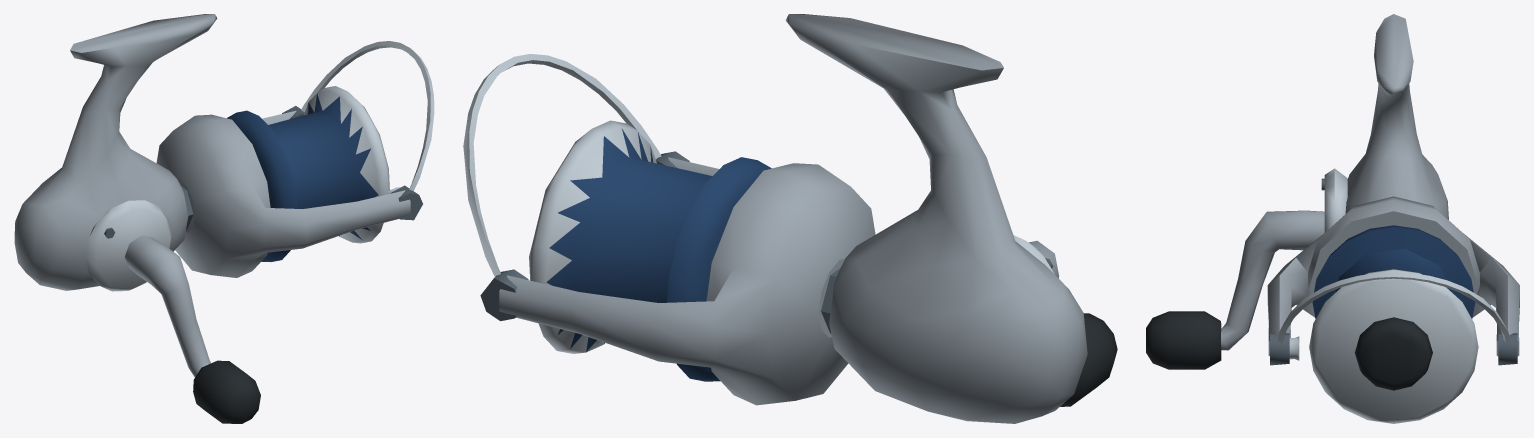
The model's file is reel_01_spinning.glb.
3 renders of one model, left to right at view 1: azimuth 30°, elevation 25°; view 2: azimuth 150°, elevation 25°; view 3: azimuth 270°, elevation 25°, orthographic. The views are drawn at different scales.
Parts seen in each view (by area): view 1: Hero_01_Continuous_body_stem_foot.001, Hero_04_Continuous_rotor_arms.001, Hero_06_Spool_shell.001, Hero_02_Side_cover.001, Hero_09_Continuous_crank_casting.001, Hero_10_Free_grip_knob.001, Hero_11_Bail_wire.001, Hero_05_Bail_hinge_caps.001; view 2: Hero_01_Continuous_body_stem_foot.001, Hero_04_Continuous_rotor_arms.001, Hero_06_Spool_shell.001, Hero_11_Bail_wire.001, Hero_10_Free_grip_knob.001, Hero_05_Bail_hinge_caps.001; view 3: Hero_06_Spool_shell.001, Hero_04_Continuous_rotor_arms.001, Hero_01_Continuous_body_stem_foot.001, Hero_09_Continuous_crank_casting.001, Hero_07_Drag_adjuster.001, Hero_10_Free_grip_knob.001, Hero_11_Bail_wire.001, Hero_02_Side_cover.001, Hero_05_Bail_hinge_caps.001.
Boxes of the visible parts, x1,y1,x2,y2 form: Hero_01_Continuous_body_stem_foot.001: [14, 14, 217, 290]; Hero_04_Continuous_rotor_arms.001: [156, 111, 410, 277]; Hero_06_Spool_shell.001: [227, 86, 389, 261]; Hero_02_Side_cover.001: [85, 200, 171, 291]; Hero_09_Continuous_crank_casting.001: [125, 235, 210, 377]; Hero_10_Free_grip_knob.001: [193, 360, 260, 423]; Hero_11_Bail_wire.001: [301, 41, 434, 190]; Hero_05_Bail_hinge_caps.001: [282, 106, 422, 220]; Hero_01_Continuous_body_stem_foot.001: [785, 14, 1087, 423]; Hero_04_Continuous_rotor_arms.001: [499, 157, 875, 405]; Hero_06_Spool_shell.001: [529, 120, 771, 381]; Hero_11_Bail_wire.001: [463, 54, 661, 276]; Hero_10_Free_grip_knob.001: [1060, 313, 1117, 406]; Hero_05_Bail_hinge_caps.001: [480, 151, 689, 321]; Hero_06_Spool_shell.001: [1309, 225, 1478, 423]; Hero_04_Continuous_rotor_arms.001: [1267, 196, 1519, 356]; Hero_01_Continuous_body_stem_foot.001: [1345, 14, 1448, 219]; Hero_09_Continuous_crank_casting.001: [1221, 210, 1324, 350]; Hero_07_Drag_adjuster.001: [1354, 317, 1432, 390]; Hero_10_Free_grip_knob.001: [1146, 311, 1221, 369]; Hero_11_Bail_wire.001: [1277, 272, 1509, 343]; Hero_02_Side_cover.001: [1324, 168, 1347, 232]; Hero_05_Bail_hinge_caps.001: [1270, 333, 1517, 365].
Size of the model in its own units: 0.1459 by 0.11 by 0.1147.
